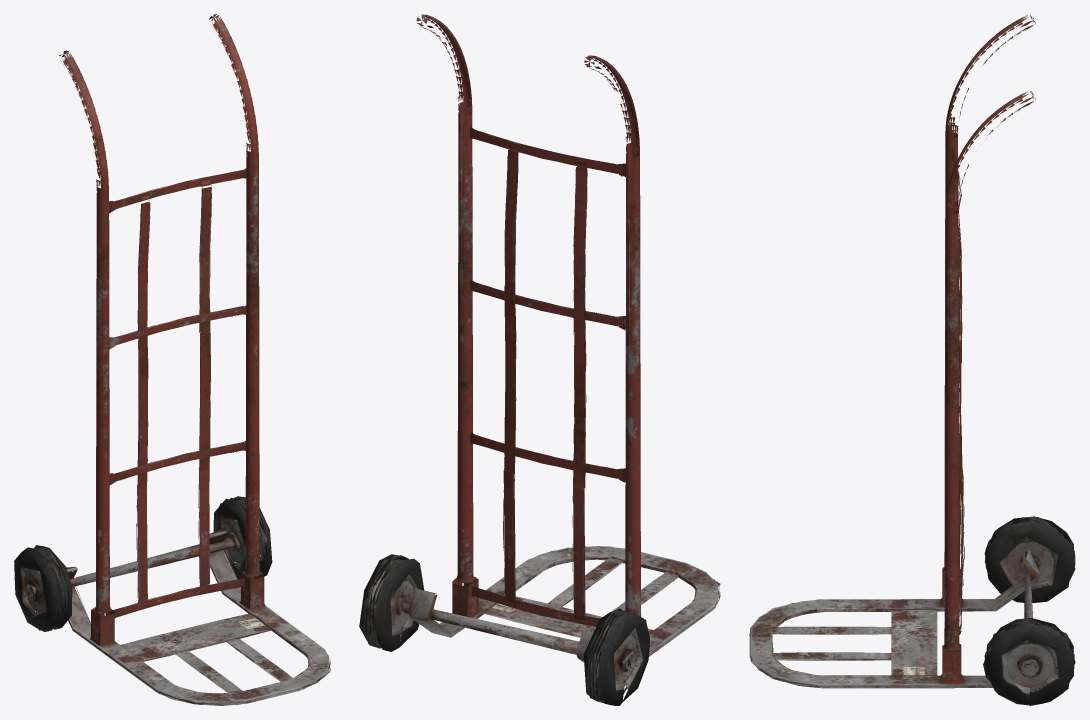
File: hand_truck.glb
3 renders of one model, left to right at view 1: azimuth 30°, elevation 25°; view 2: azimuth 150°, elevation 25°; view 3: azimuth 270°, elevation 25°, orthographic. The views are drawn at different scales.
Parts seen in each view (by area): view 1: hand_truck; view 2: hand_truck; view 3: hand_truck.
Boxes of the visible parts, bbox=[...] form: hand_truck: bbox=[14, 14, 330, 705]; hand_truck: bbox=[359, 14, 720, 705]; hand_truck: bbox=[749, 14, 1075, 705].
Size of the model in its own units: 0.5933 by 1.41 by 0.6932.
1 material, 1 textured.
